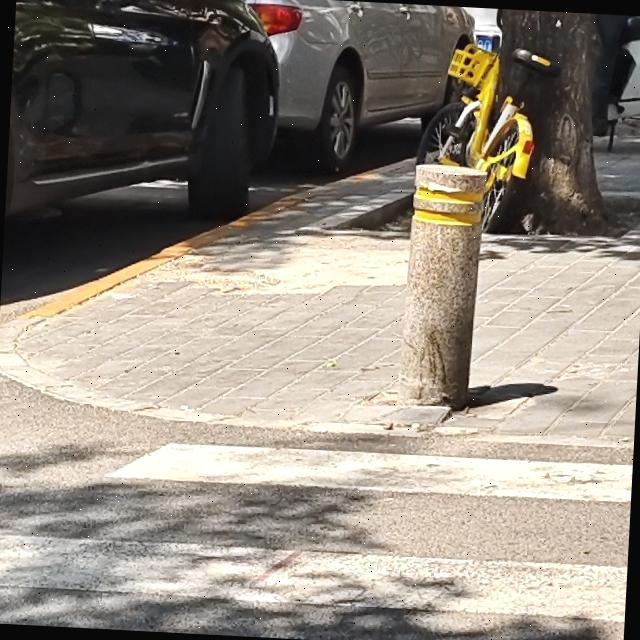curb: (21, 160, 414, 318), (0, 350, 383, 432), (0, 319, 28, 354)
